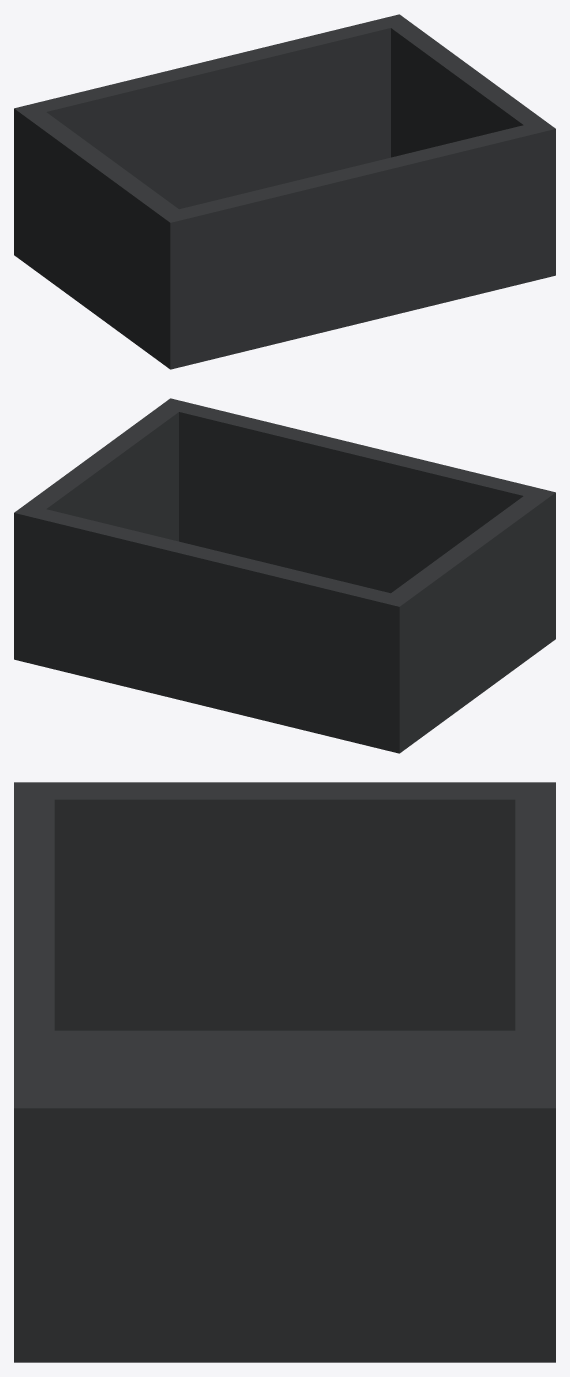
File: basket.fbx
The picture shows the model from 3 angles, top to bottom: view 1: azimuth 30°, elevation 25°; view 2: azimuth 150°, elevation 25°; view 3: azimuth 270°, elevation 25°; orthographic projection. The views are drawn at different scales.
Visible parts, largest first — view 1: Cube.011; view 2: Cube.011; view 3: Cube.011.
Part boxes in pixels (<box>): Cube.011: <box>14,14,555,369</box>; Cube.011: <box>14,398,555,753</box>; Cube.011: <box>14,782,555,1362</box>.
Size of the model in its own units: 106 by 38.64 by 74.65.
